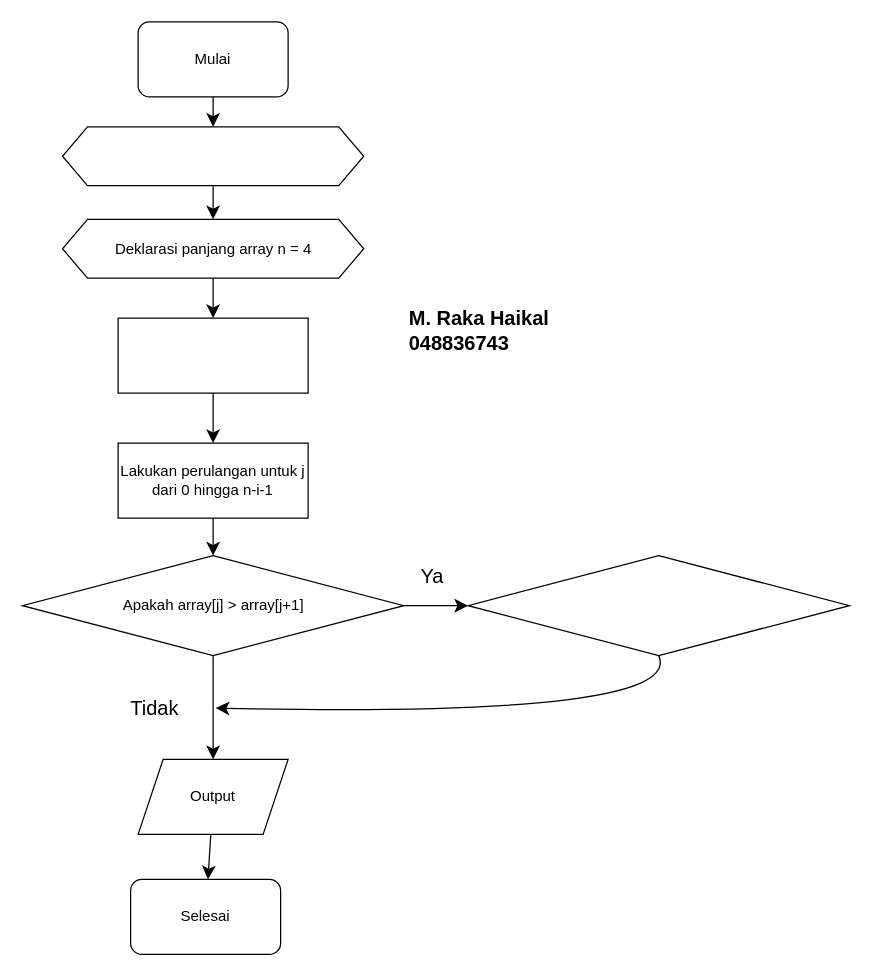
Some shapes in this 871 by 976 pixel diagram are drawn without their labels. Each missing label, with the centre of its shape:
Inisialisasi array angka = [3, 1, 4, 2]: (x=212, y=156)
Lakukan perulangan untuk i dari 0 hingga n-1: (x=212, y=355)
Tukar array[j] dengan array[j+1]: (x=658, y=605)
